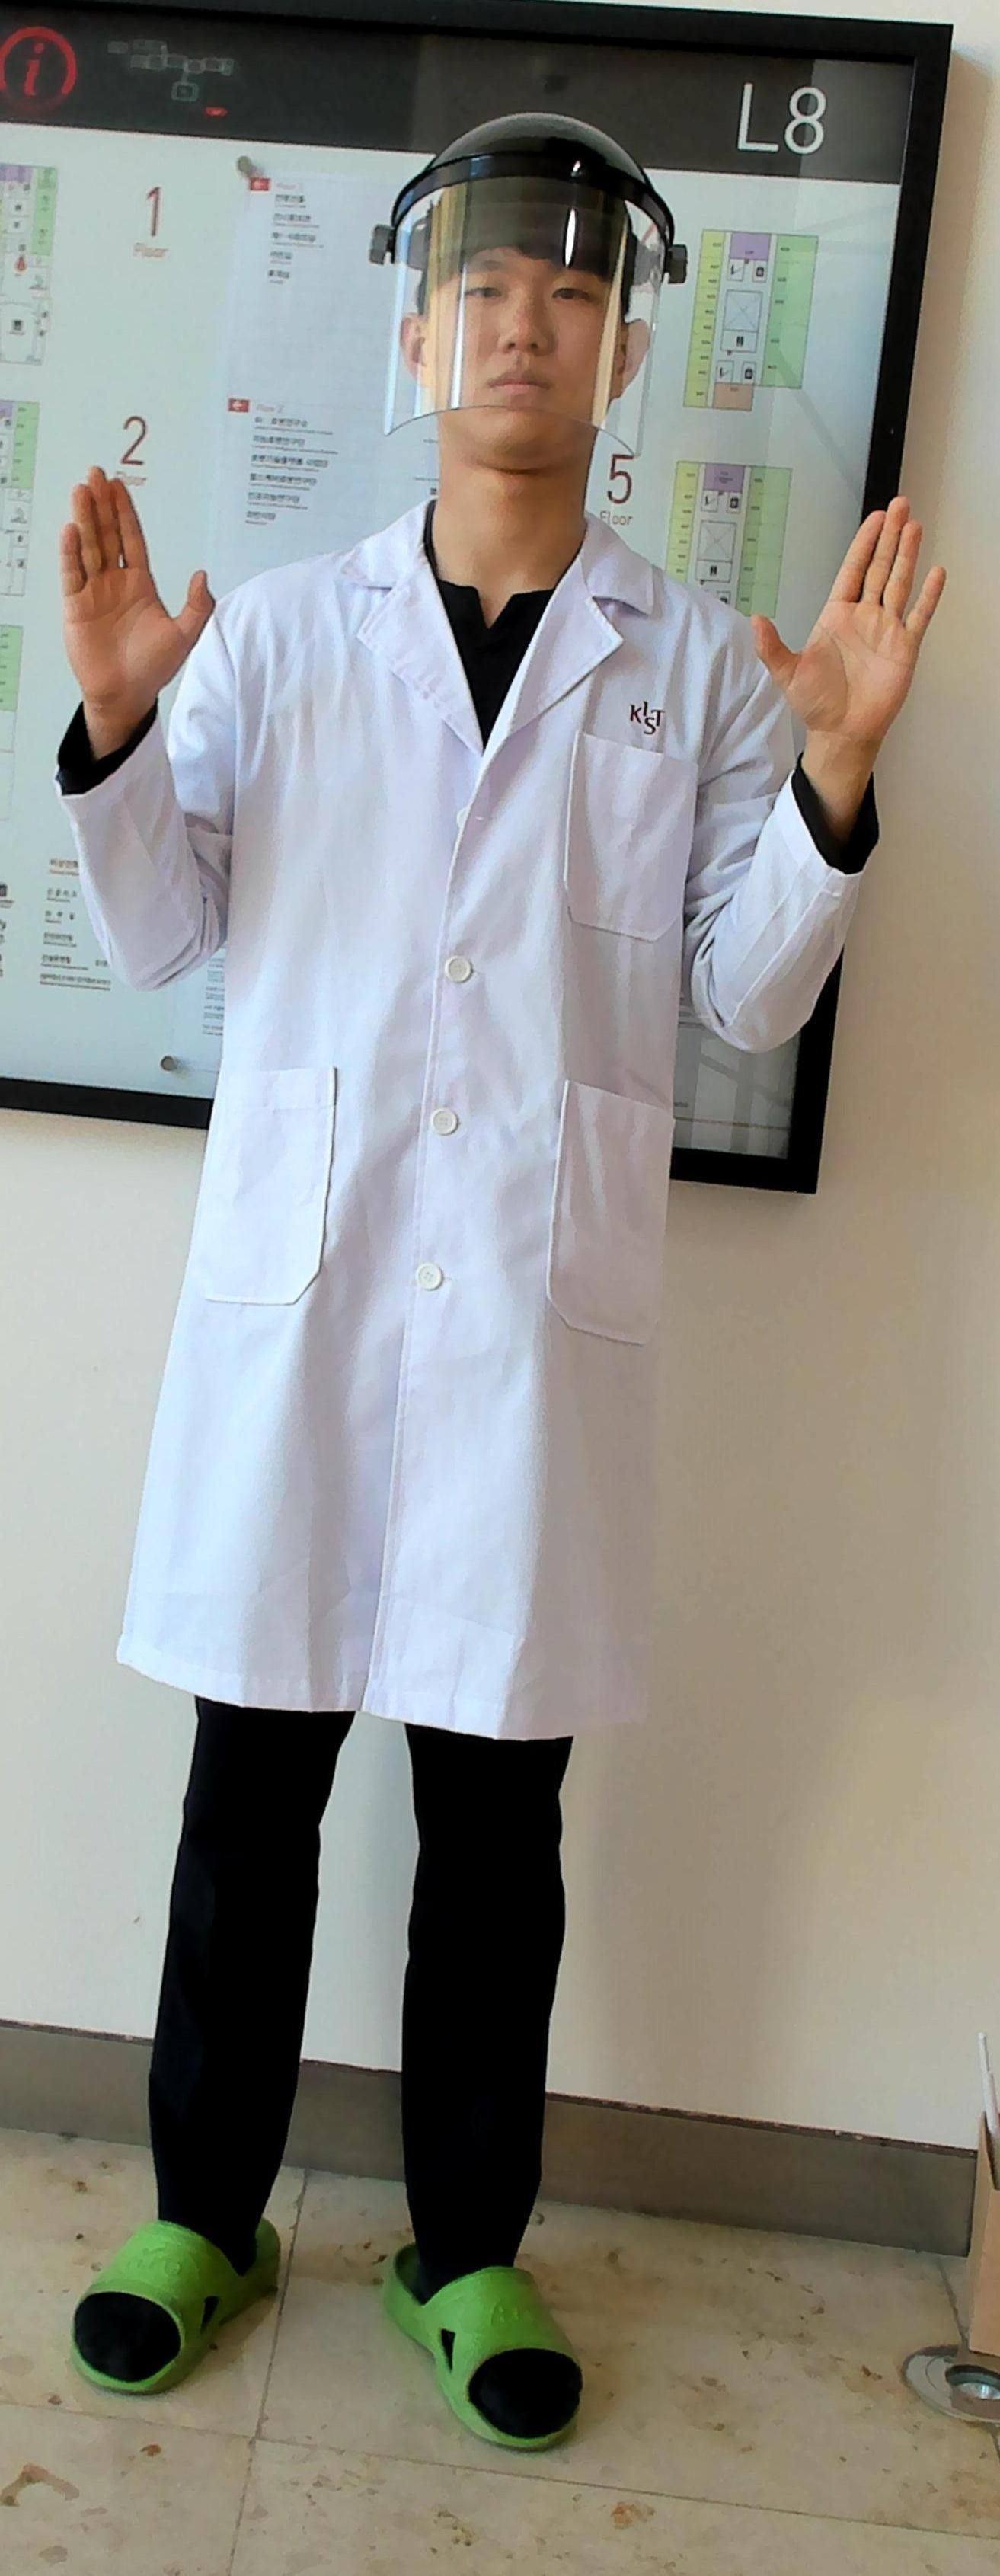lab_coat: (207, 542, 718, 1745)
